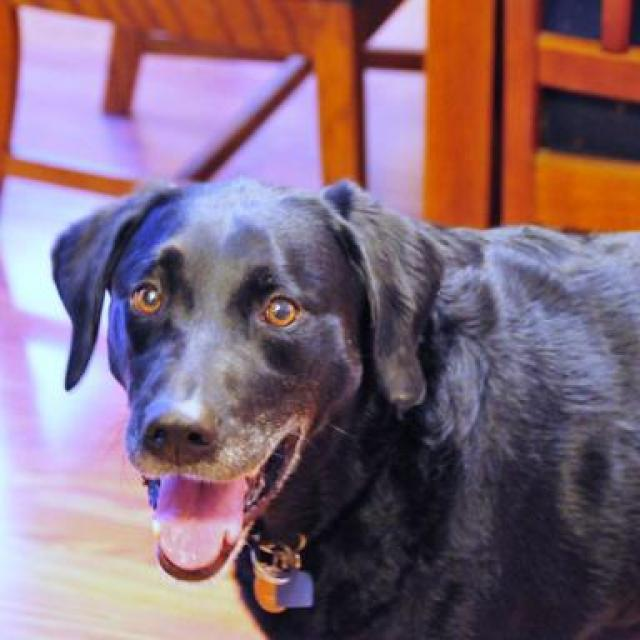adult_dog: (47, 178, 640, 640)
